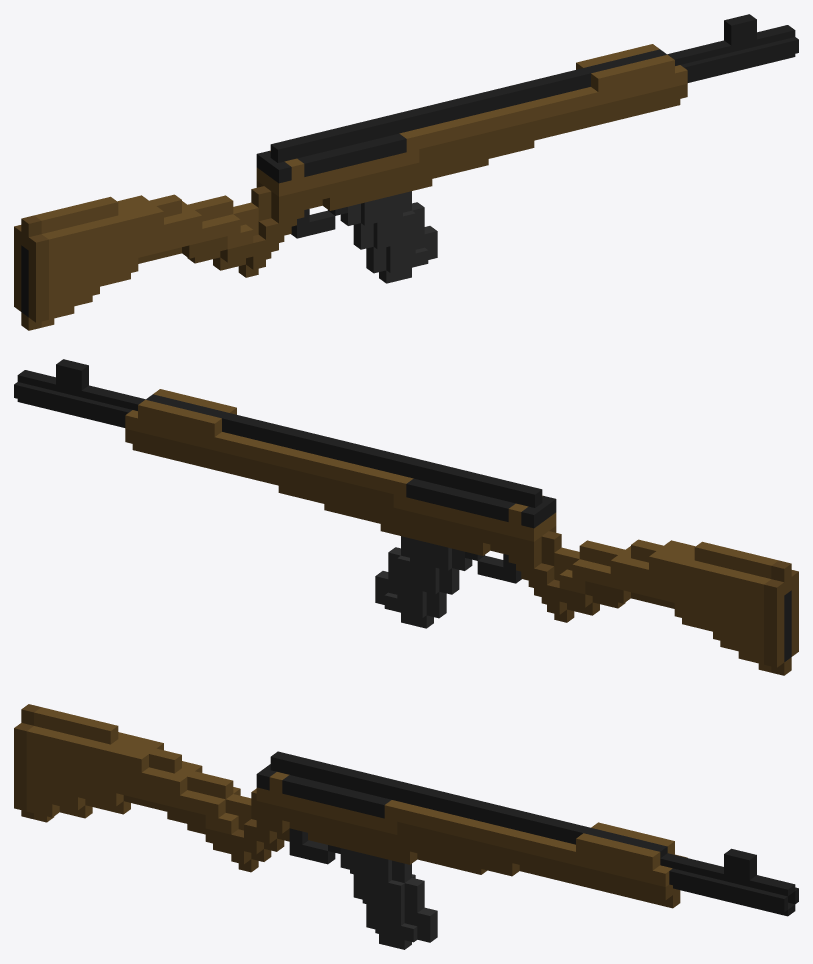
Rendered from fatal-mini14.obj.
The picture shows the model from 3 angles, top to bottom: view 1: azimuth 30°, elevation 25°; view 2: azimuth 150°, elevation 25°; view 3: azimuth 330°, elevation 25°; orthographic projection.
Size of the model in its own units: 12 by 2.6 by 0.6.
Materials: 1 (1 with a texture image).
